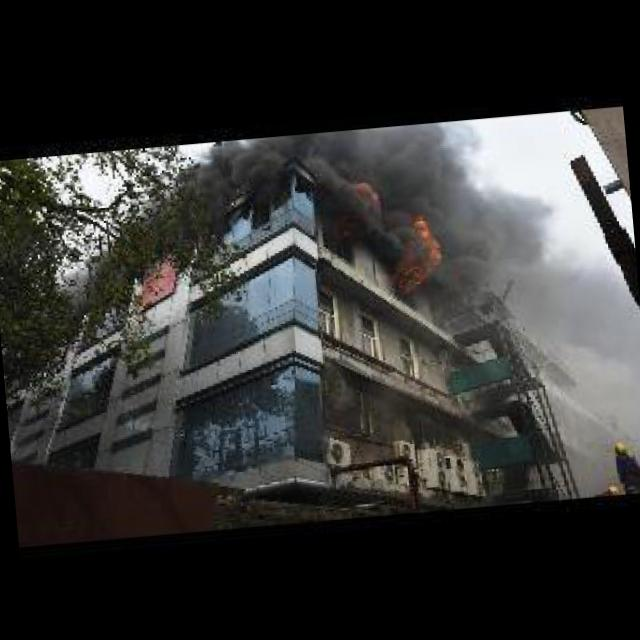fire: (387, 210, 448, 298)
smoke: (164, 120, 470, 232), (434, 179, 594, 333)
